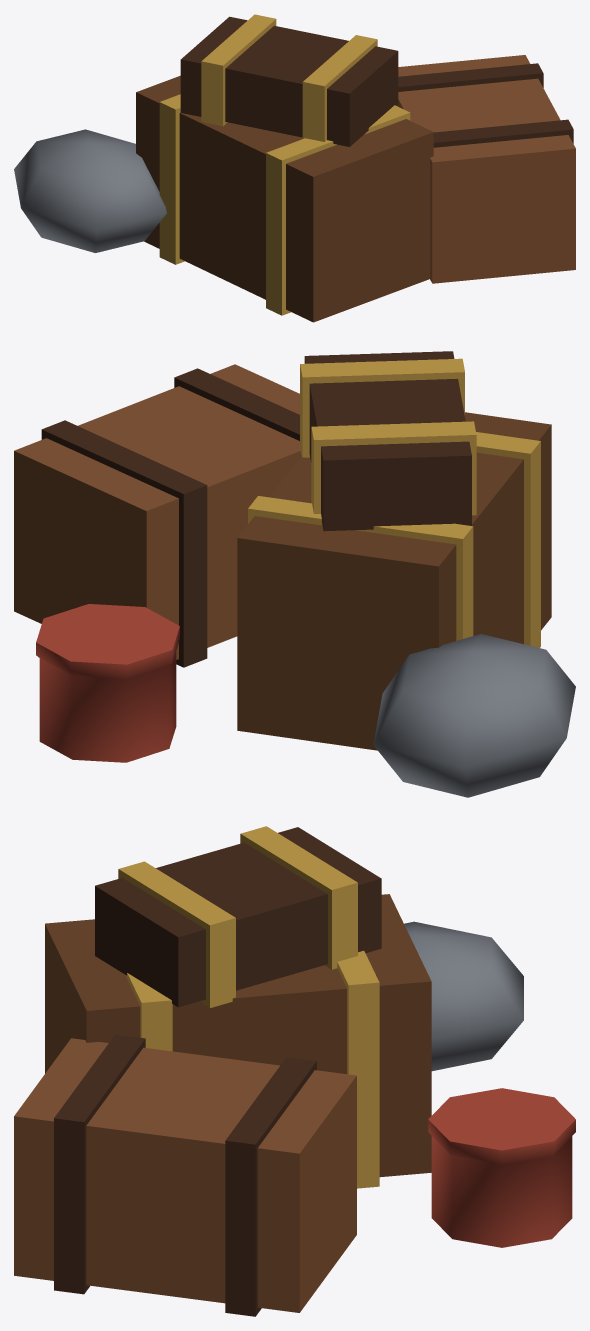
File: luggage.glb
3 renders of one model, top to bottom at view 1: azimuth 30°, elevation 25°; view 2: azimuth 150°, elevation 25°; view 3: azimuth 270°, elevation 25°, orthographic. The views are drawn at different scales.
Visible parts, largest first — view 1: Body; view 2: Body; view 3: Body.
Part boxes in pixels (<box>): Body: <box>14,14,575,322</box>; Body: <box>14,351,575,797</box>; Body: <box>14,826,575,1316</box>.
Bounding box in the file's own units: 1.99 × 0.87 × 1.6.
